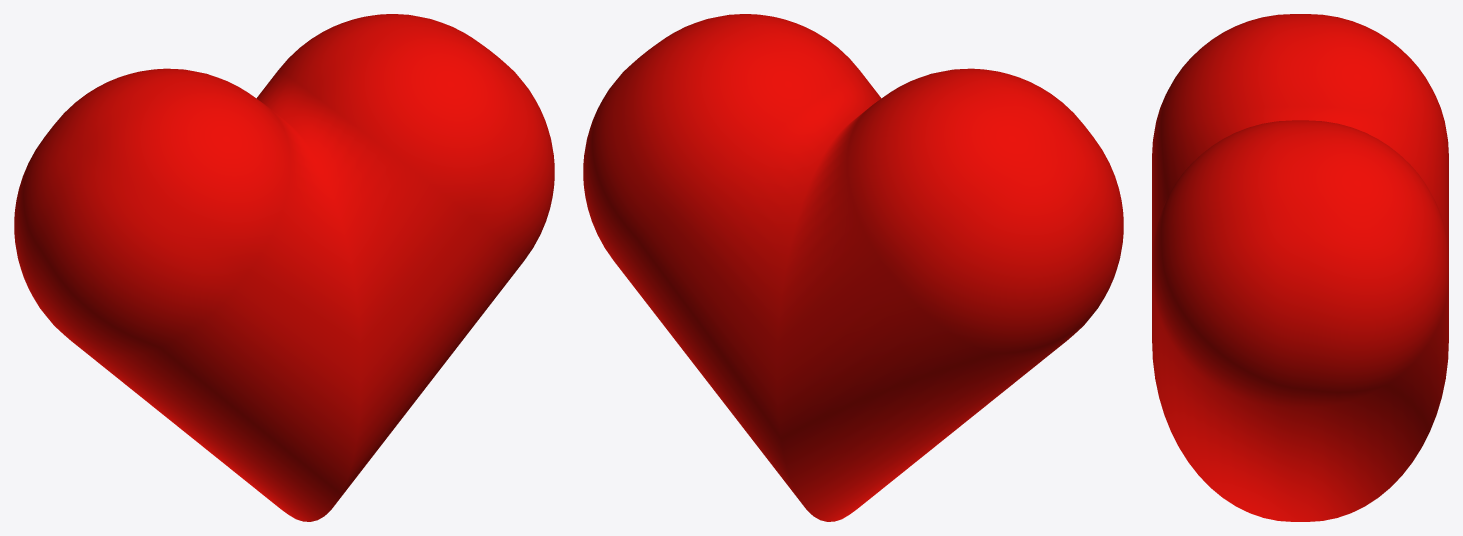
File: heart.gltf
3 renders of one model, left to right at view 1: azimuth 30°, elevation 25°; view 2: azimuth 150°, elevation 25°; view 3: azimuth 270°, elevation 25°, orthographic. The views are drawn at different scales.
Parts seen in each view (by area): view 1: Cube; view 2: Cube; view 3: Cube.
Part boxes in pixels (box(x1,y1,x2,y2)): Cube: box(14, 14, 554, 521); Cube: box(583, 14, 1123, 521); Cube: box(1152, 14, 1448, 521).
Bounding box in the file's own units: 3.74 × 3.28 × 2.
